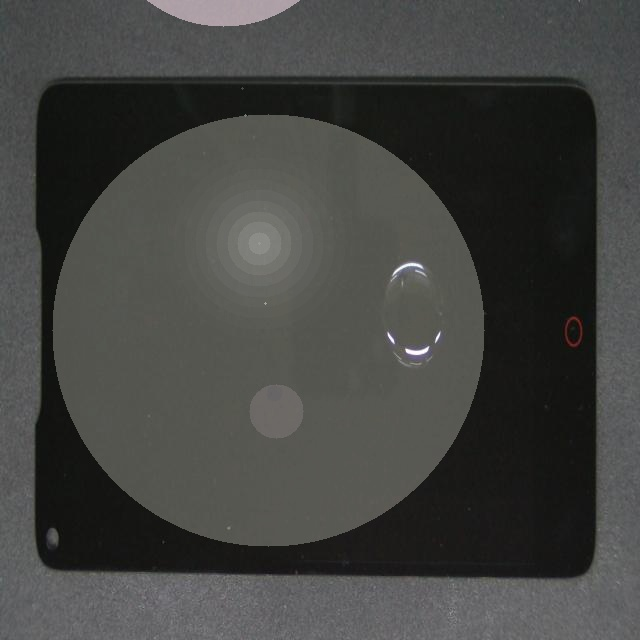oil: (229, 130, 629, 395)
